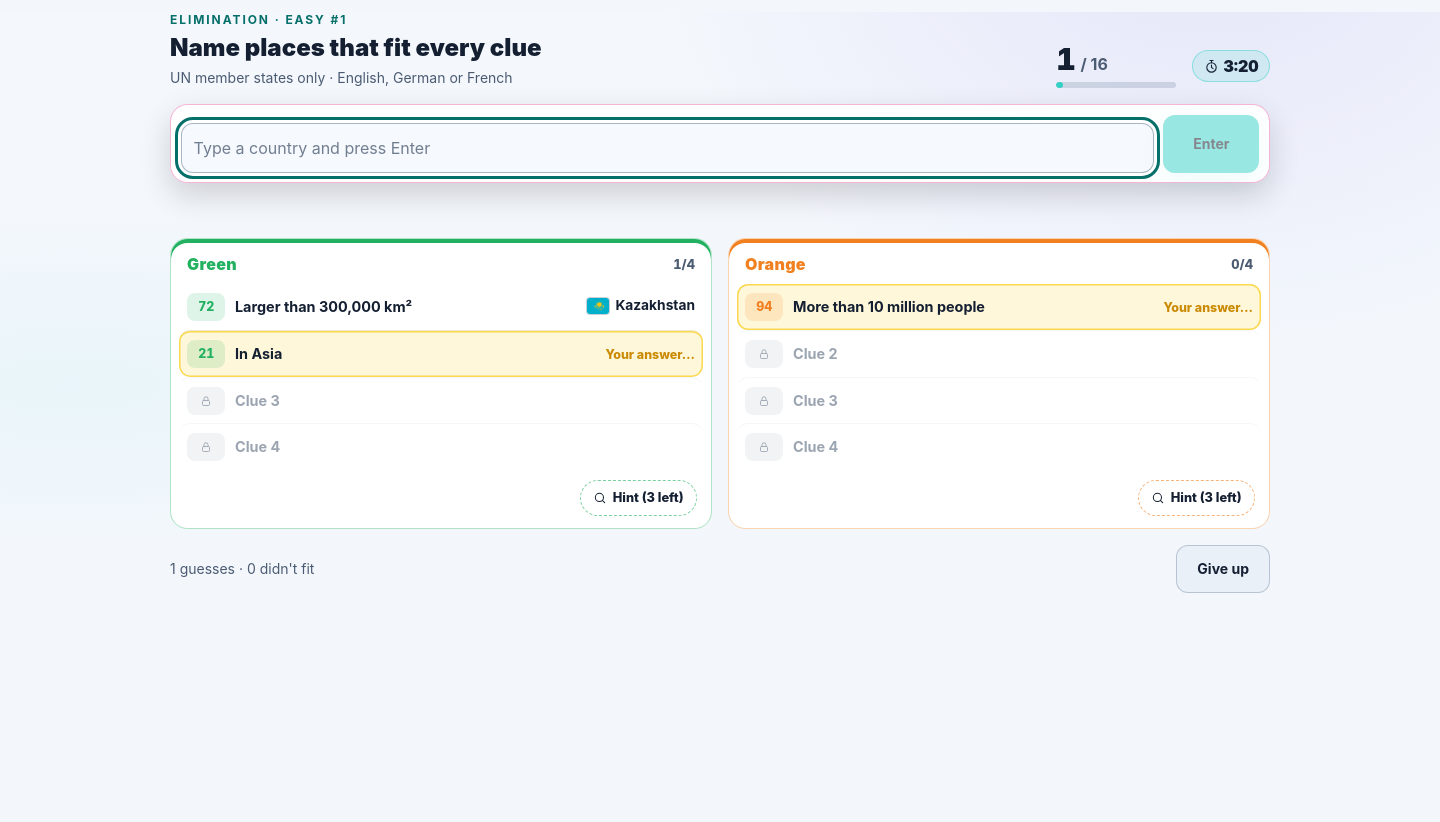
sends a guess and explains the result
The image size is (1440, 822).
Type "Iran" into the field with placeholder "Type a country and press Enter". click: (667, 148)
box: [181,123,1154,173]
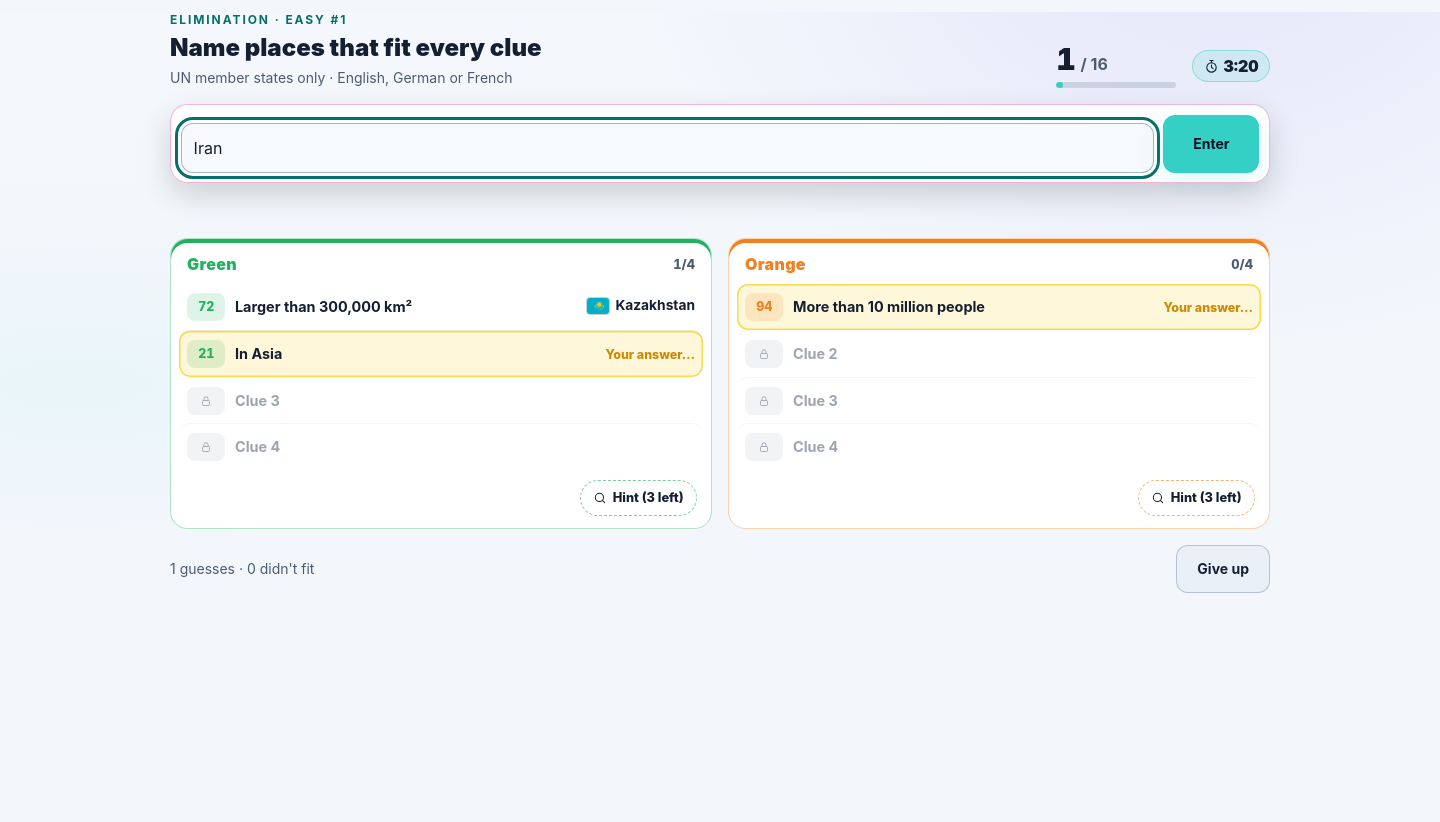
Submit the form with placeholder "Type a country and press Enter", box [170,104,1270,183]
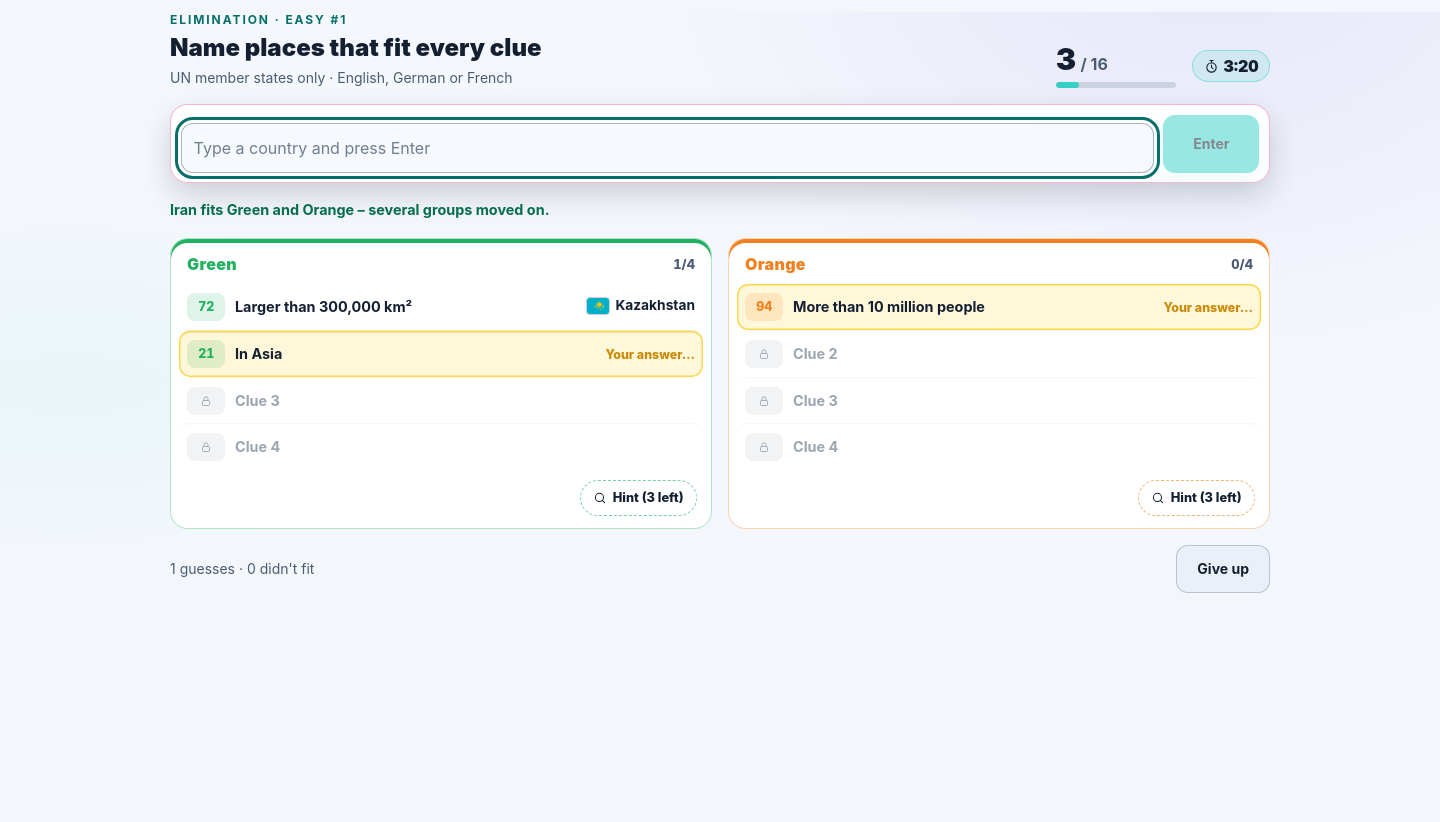
Now the text "Iran fits Green and Orange – several groups moved on." is shown, box [170,201,549,218]
Type "Niger" into the field with placeholder "Type a country and press Enter". click: (667, 148)
box: [181,123,1154,173]
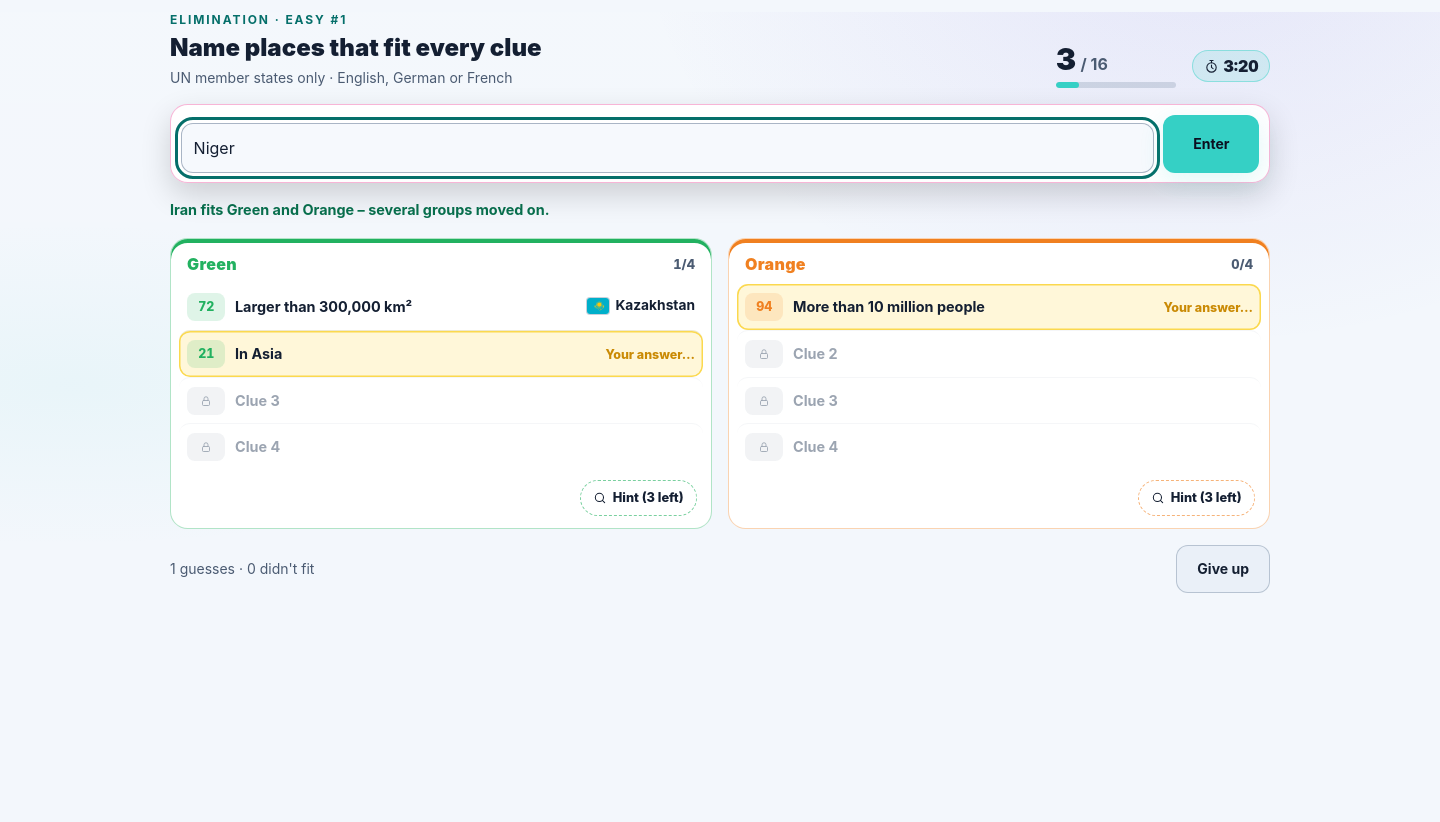
Submit the form with placeholder "Type a country and press Enter", box [170,104,1270,183]
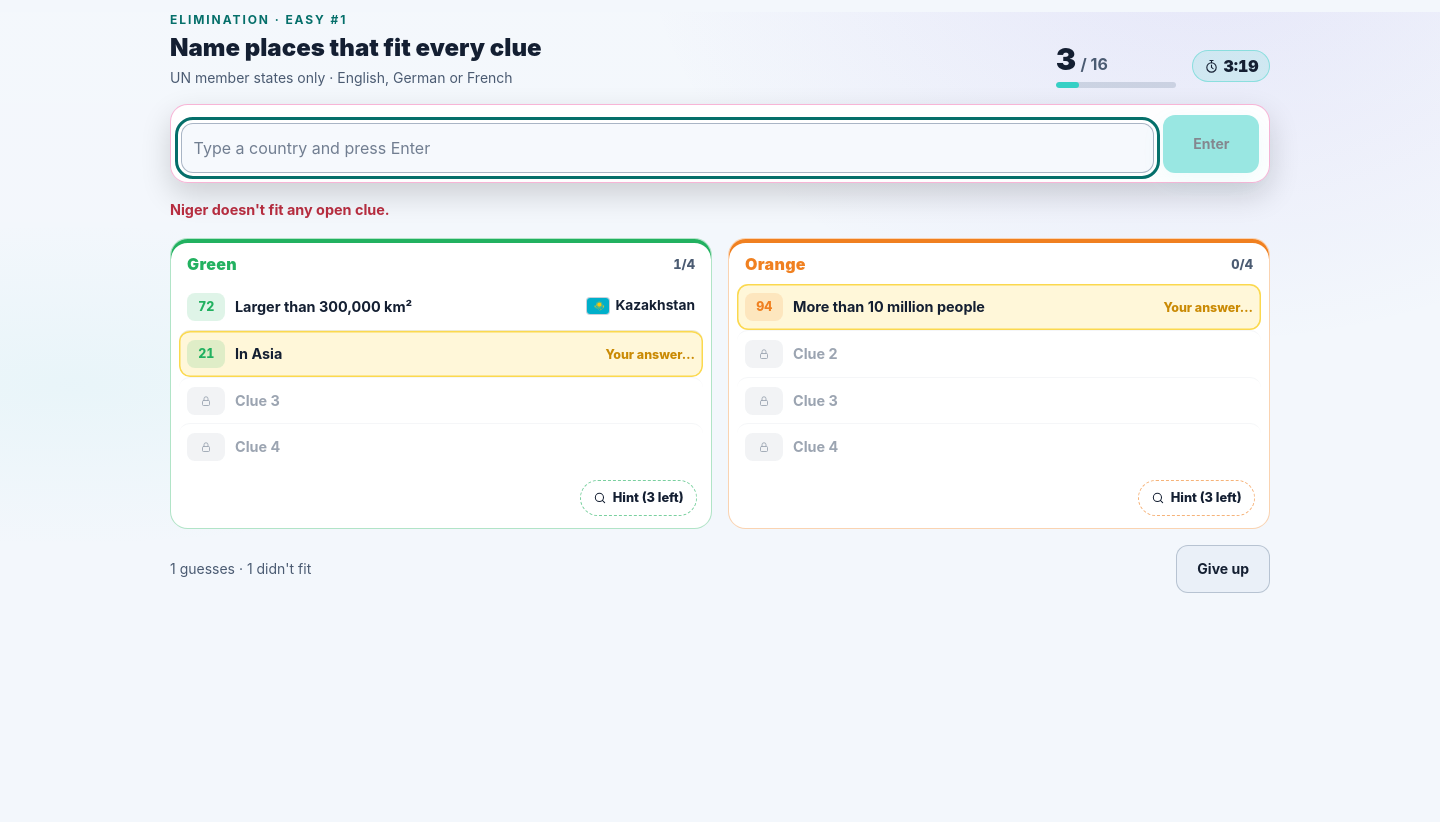
Now the text "Niger doesn't fit any open clue." is shown, box [170,201,390,218]
